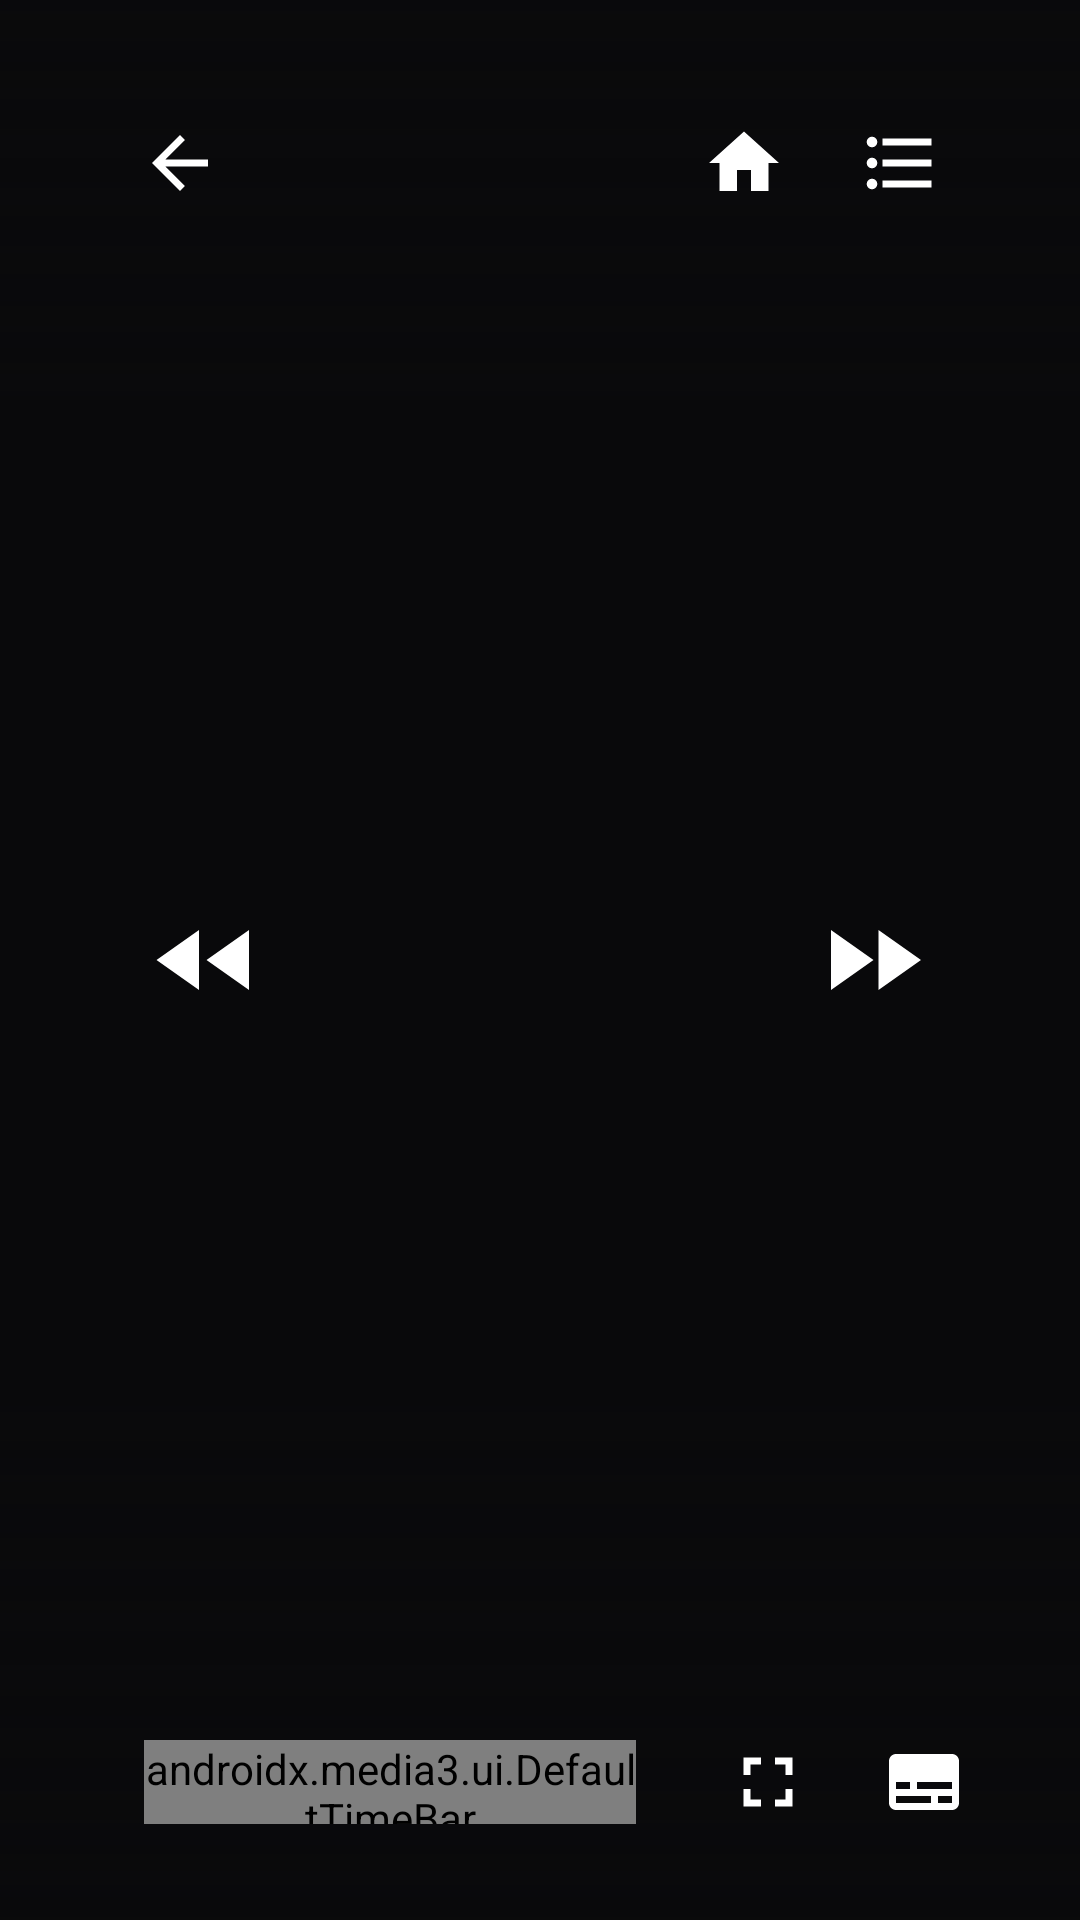

Icon bounding boxes for this 1080 x 1920 phone screenshot, format Rect(x1, y1, x2, y2):
Audio and subtitles: Rect(889, 1754, 959, 1810)
Forward 10 seconds: Rect(831, 930, 921, 990)
Rewind 10 seconds: Rect(157, 930, 249, 990)
Zoom to fill: Rect(743, 1757, 793, 1807)
